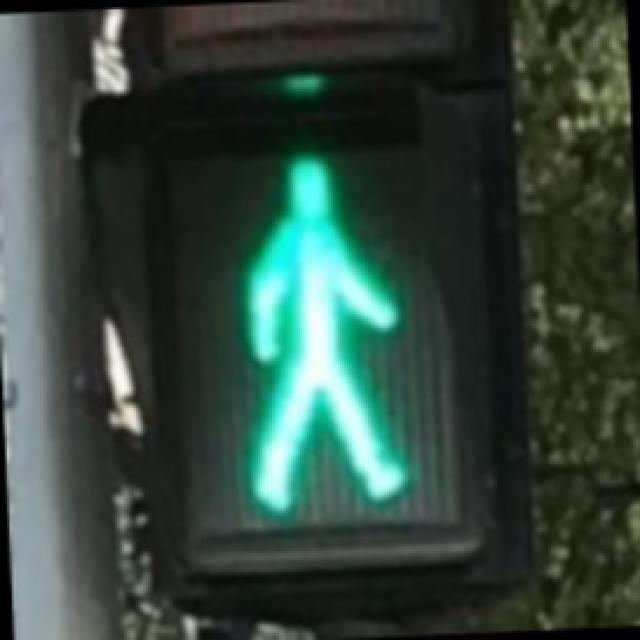geen-crossing: (176, 96, 460, 535)
